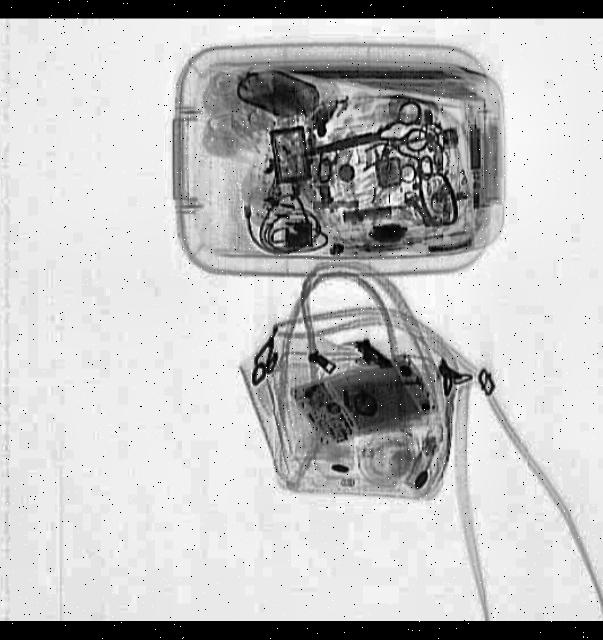Scissors: (293, 99, 430, 180)
